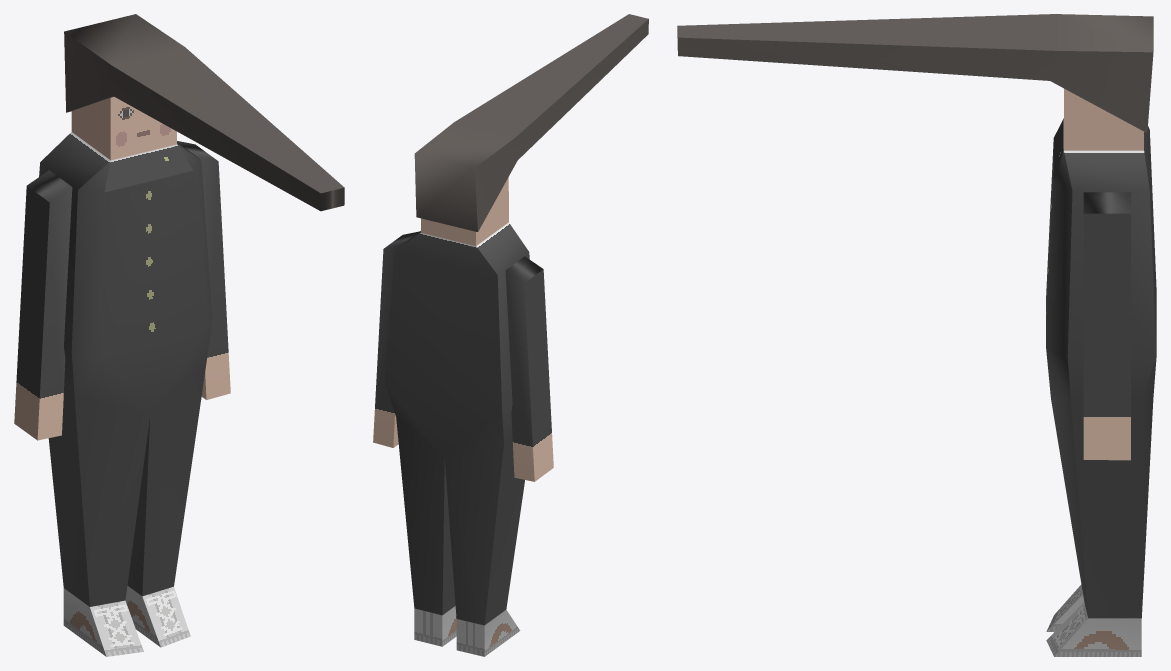
The model's file is 0219_Short_Schoolboy.glb.
3 views of the same model, side by side, from view 1: azimuth 30°, elevation 25°; view 2: azimuth 150°, elevation 25°; view 3: azimuth 270°, elevation 25° (orthographic). The views are drawn at different scales.
Visible parts, largest first — view 1: part_0; view 2: part_0; view 3: part_0.
Boxes of the visible parts, x1,y1,x2,y2 form: part_0: (14,14,344,656); part_0: (373,14,648,656); part_0: (677,14,1156,656).
Bounding box in the file's own units: 0.4562 × 1.33 × 0.9559.
1 material, 1 textured.
